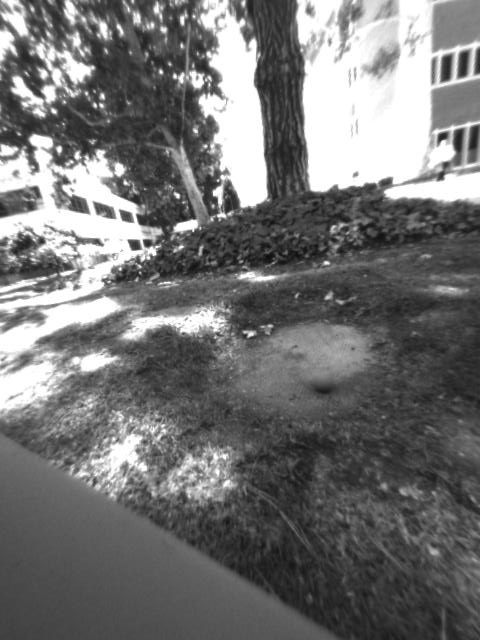dogtoy: (301, 361, 351, 403)
